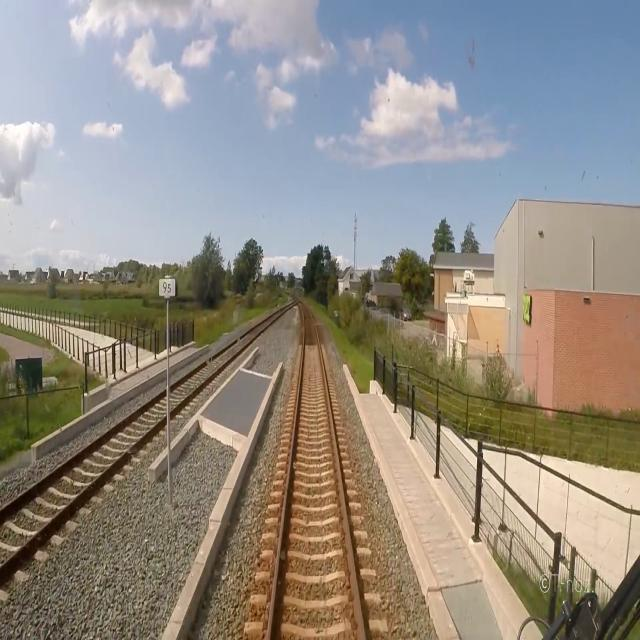rail-track: (271, 300, 361, 639), (0, 392, 166, 562), (170, 313, 278, 408)
